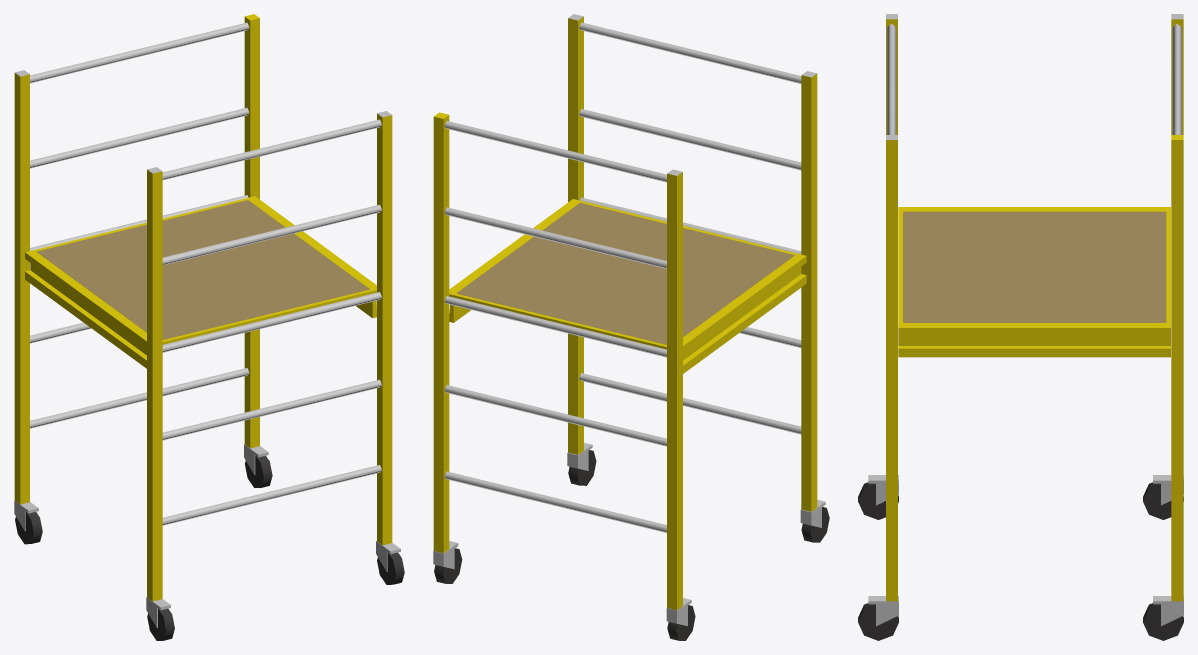
Rendered from SM_ScaffoldingLow.fbx.
The picture shows the model from 3 angles, left to right: view 1: azimuth 30°, elevation 25°; view 2: azimuth 150°, elevation 25°; view 3: azimuth 270°, elevation 25°; orthographic projection. The views are drawn at different scales.
Parts seen in each view (by area): view 1: pCube36; view 2: pCube36; view 3: pCube36.
Part boxes in pixels (bbox=[...]): pCube36: bbox=[14, 14, 404, 640]; pCube36: bbox=[433, 14, 829, 640]; pCube36: bbox=[858, 14, 1183, 640].
Size of the model in its own units: 128 by 237 by 140.
